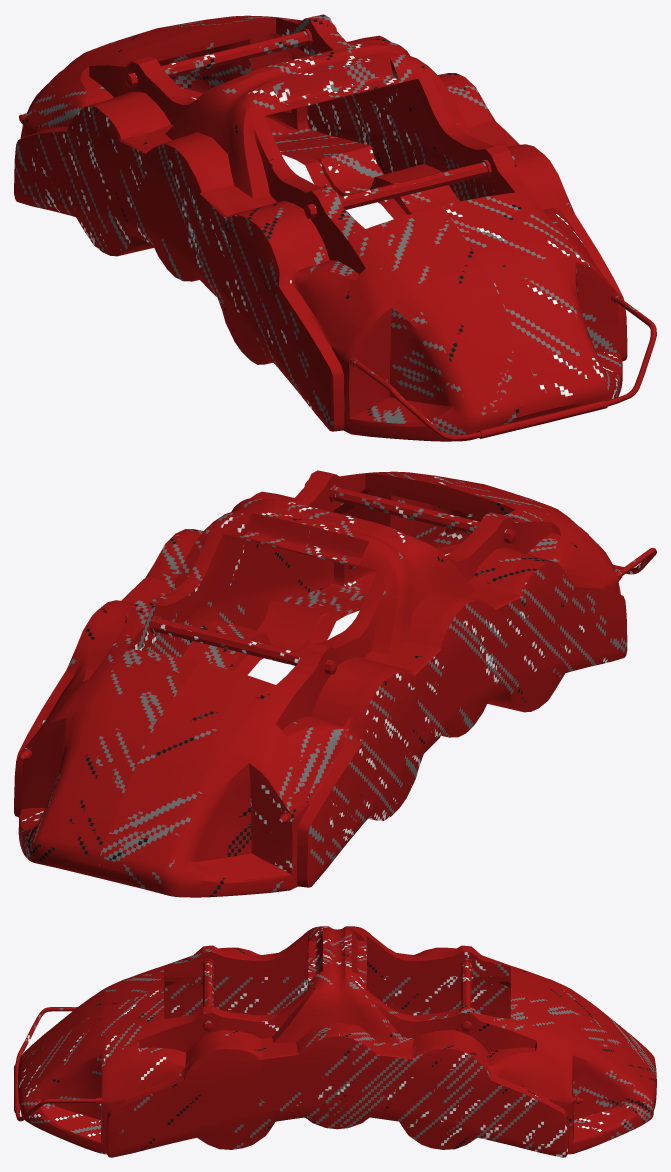
Rendered from brembo-brake-caliper.glb.
3 views of the same model, one above another, from view 1: azimuth 30°, elevation 25°; view 2: azimuth 150°, elevation 25°; view 3: azimuth 270°, elevation 25° (orthographic). The views are drawn at different scales.
Parts seen in each view (by area): view 1: Pinze_LP3_lambert1_0; view 2: Pinze_LP3_lambert1_0; view 3: Pinze_LP3_lambert1_0.
Part boxes in pixels (x1,y1,x2,y2): Pinze_LP3_lambert1_0: [14, 14, 656, 441]; Pinze_LP3_lambert1_0: [14, 470, 656, 897]; Pinze_LP3_lambert1_0: [14, 926, 656, 1157].
Size of the model in its own units: 0.1386 by 0.098 by 0.36.
1 material, 1 textured.
